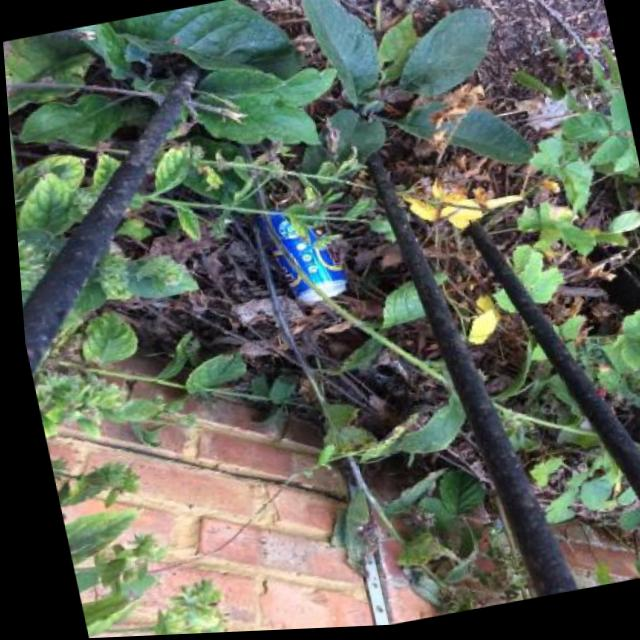metal: (252, 196, 352, 311)
